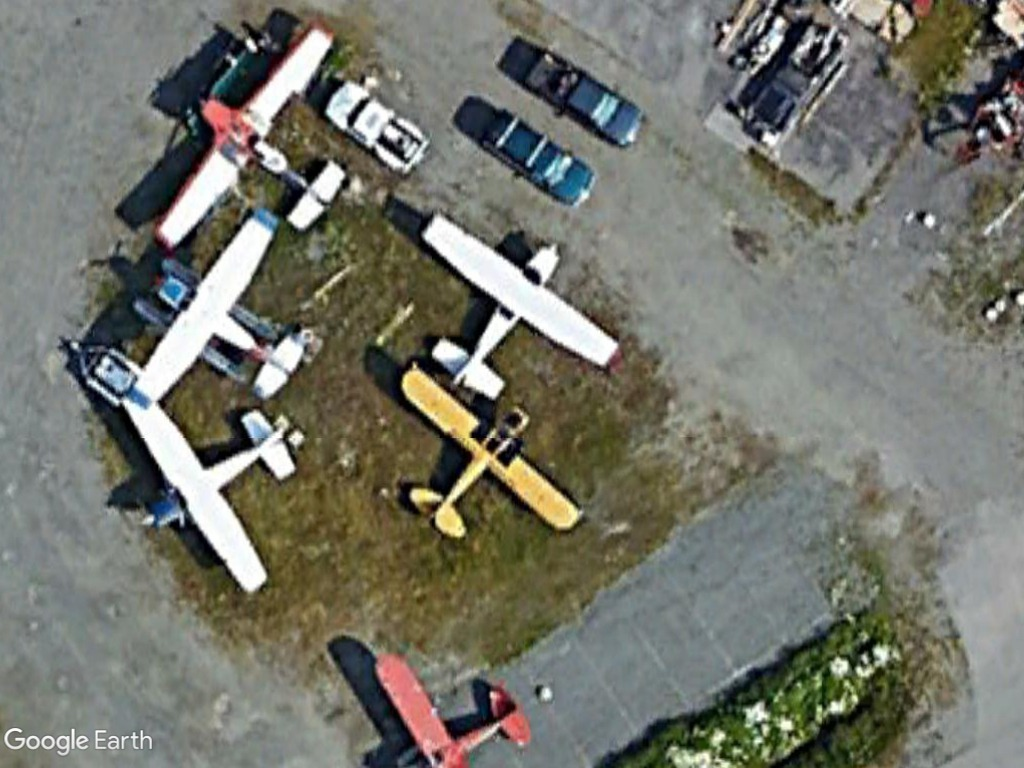other: (525, 49, 649, 153), (473, 111, 600, 209), (320, 72, 434, 177)
trainer: (147, 10, 353, 258), (416, 207, 621, 404), (117, 391, 308, 600), (119, 204, 302, 420), (387, 357, 586, 551)
